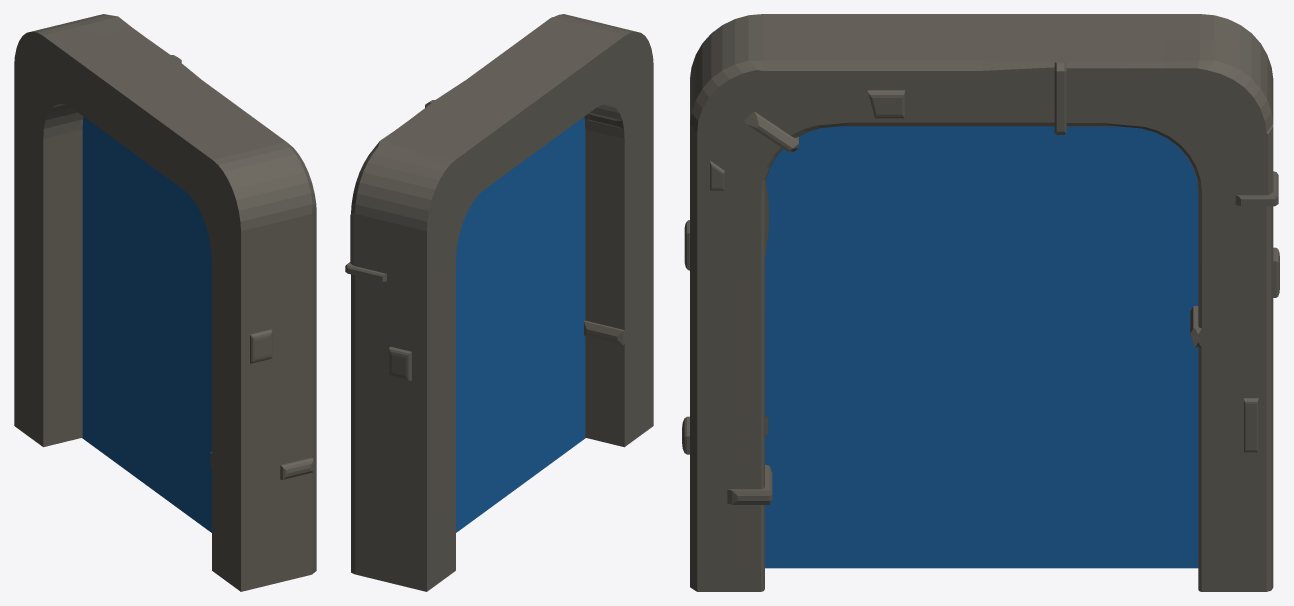
The model's file is portal.fbx.
3 renders of one model, left to right at view 1: azimuth 30°, elevation 25°; view 2: azimuth 150°, elevation 25°; view 3: azimuth 270°, elevation 25°, orthographic. The views are drawn at different scales.
Visible parts, largest first — view 1: Куб, Плоскость; view 2: Куб, Плоскость; view 3: Плоскость, Куб.
Boxes of the visible parts, box(x1,y1,x2,y2) form: Куб: box(14, 14, 316, 591); Плоскость: box(82, 117, 211, 532); Куб: box(345, 14, 653, 591); Плоскость: box(456, 117, 585, 532); Плоскость: box(765, 126, 1198, 568); Куб: box(682, 14, 1279, 591).
Bounding box in the file's own units: 107 × 502 × 513.
